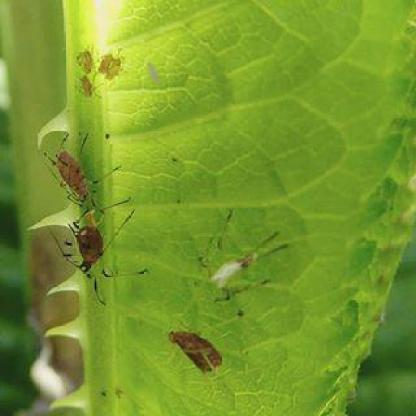aphid: (191, 215, 285, 311), (60, 216, 146, 306), (35, 126, 117, 214), (162, 314, 233, 380), (94, 50, 127, 86), (74, 75, 110, 107), (72, 44, 98, 74)
